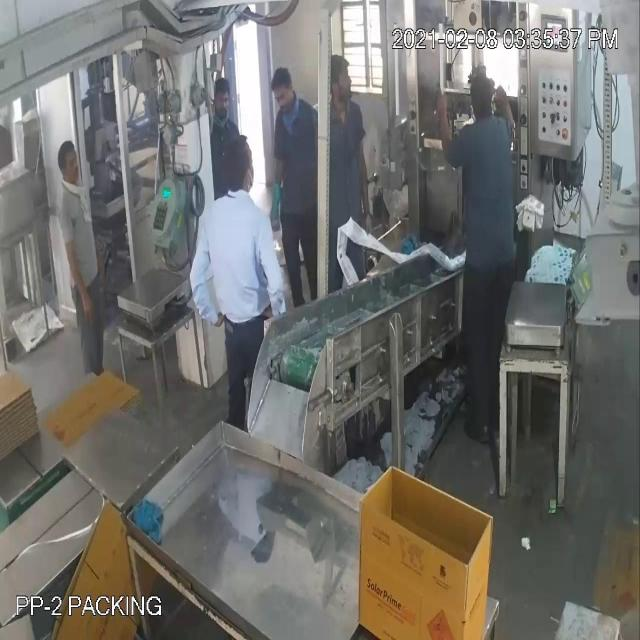No_Gloves: (18, 65, 509, 288)
